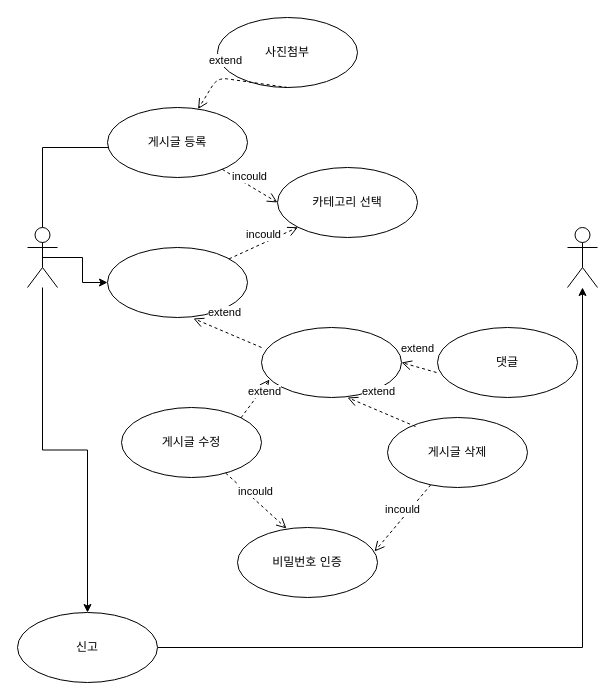
Image size: 616x700. Some labels were removed from this diagram. The centre of each missing label's shape, as x and y in pixels:
게시글 목록 조회: pixel 177 282
게시글 상세 조회: pixel 331 362
관리자: pixel 582 257
사용자: pixel 42 257
